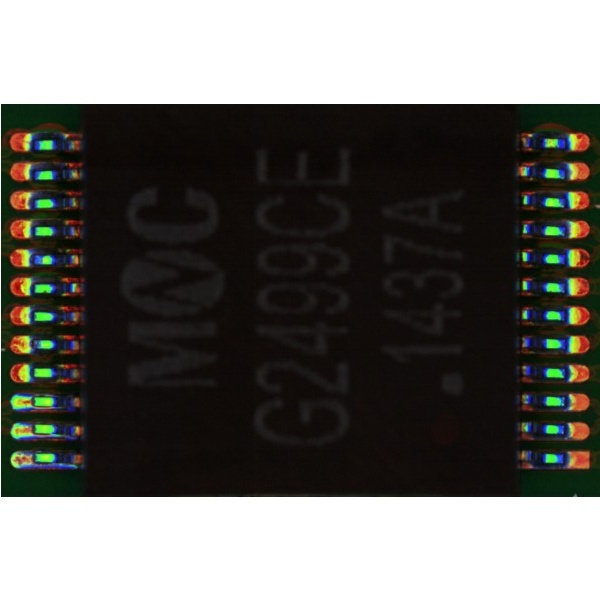Bad_podu: (23, 397, 41, 407), (21, 426, 40, 434), (24, 454, 37, 462)
Bad_qiaojiao: (34, 464, 77, 469), (33, 435, 74, 439), (31, 406, 65, 410)
